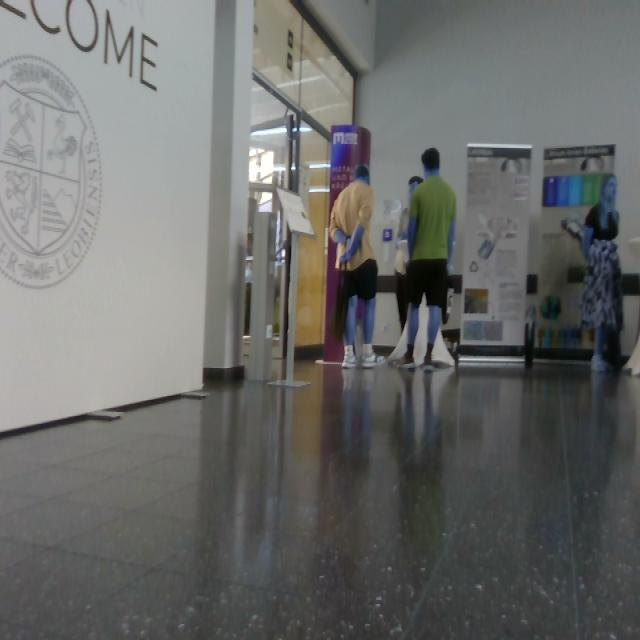door: (457, 142, 532, 360)
light bulb: (381, 198, 402, 264), (561, 217, 584, 240)
person: (394, 148, 457, 373), (329, 164, 387, 369)
tiled floor: (1, 355, 640, 639)
